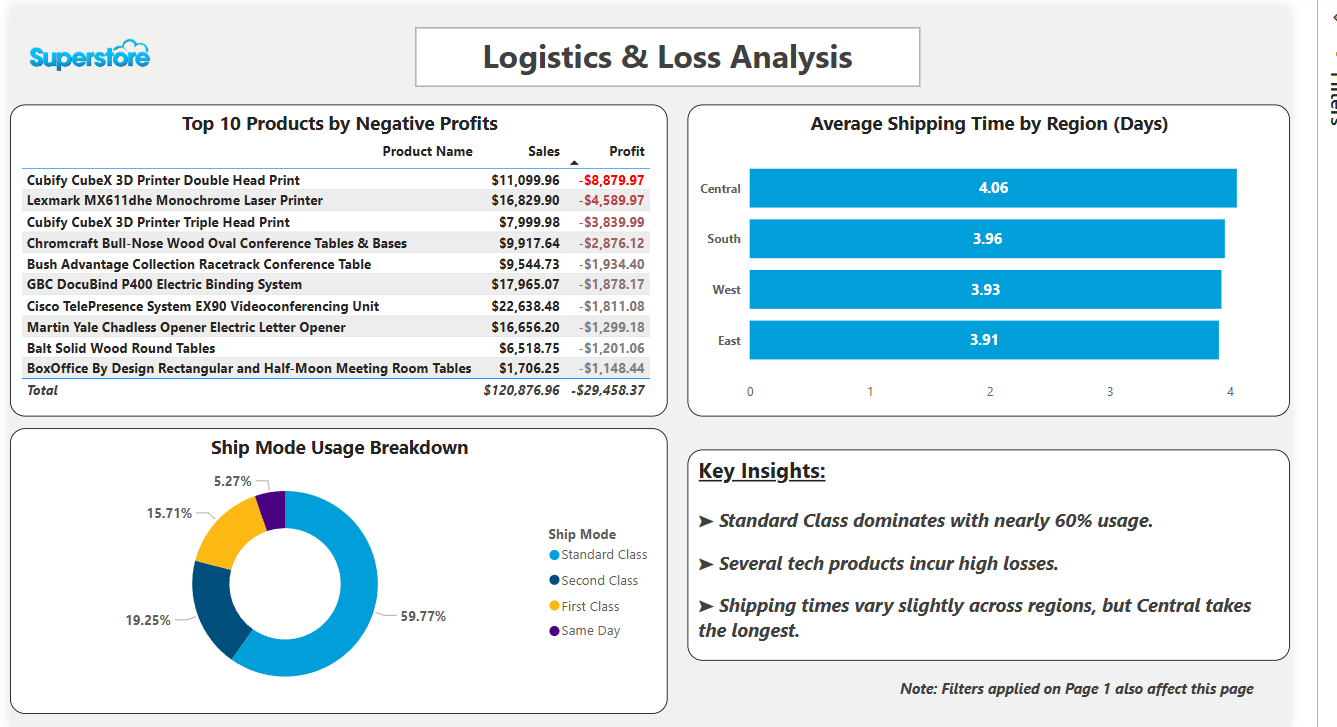

The dashboard page shown, as its layout file describes it:
{"tool":"powerbi","page":{"name":"Operational Insights","canvas":[1280,720],"ordinal":1},"visuals":[{"type":"tableEx","title":"Top 10 Products by Negative Profits","fields":{"Values":["Superstore.Product Name","Sum(Superstore.Sales)","Sum(Superstore.Profit)"]},"box":[0,96.9,657.7,311.7],"z":0},{"type":"barChart","title":"Average Shipping Time by Region (Days)","fields":{"Category":["Superstore.Region"],"Y":["Avg(Superstore.Average Shipping Time)"]},"box":[677.3,96.9,602.5,311.7],"z":1000},{"type":"donutChart","title":"Ship Mode Usage Breakdown","fields":{"Category":["Superstore.Ship Mode"],"Y":["Count(Superstore.Order ID)"]},"box":[0,420.9,657.7,285.9],"z":2000},{"type":"textbox","box":[404.9,19.6,505.5,60.1],"z":3000},{"type":"image","box":[0,0,157.1,96.9],"z":4000},{"type":"textbox","title":"Key Insights:","box":[677.5,442.5,602.5,211.2],"z":5000},{"type":"textbox","title":"Key Insights:","box":[853.8,666.2,426.2,32.5],"z":5004}]}

Visuals, with their boxes on the page's 1280x720 design canvas (x1, y1, x2, y2). These are canvas units, not pixel positions in the 1337x727 screenshot, which may show the page scaled, cropped or inside an application window:
"Top 10 Products by Negative Profits" tableEx: rect(0, 97, 658, 409)
"Average Shipping Time by Region (Days)" barChart: rect(677, 97, 1280, 409)
"Ship Mode Usage Breakdown" donutChart: rect(0, 421, 658, 707)
textbox: rect(405, 20, 910, 80)
image: rect(0, 0, 157, 97)
"Key Insights:" textbox: rect(678, 442, 1280, 654)
"Key Insights:" textbox: rect(854, 666, 1280, 699)
